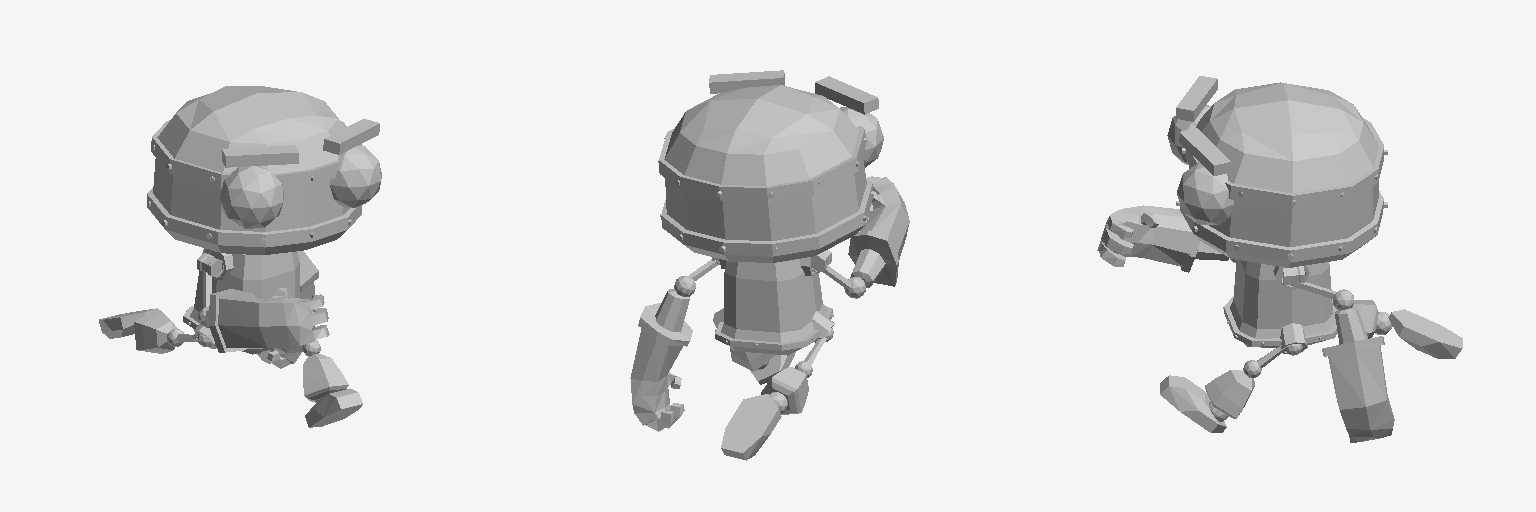
Rendered from Robot_000023.obj.
3 views of the same model, side by side, from view 1: azimuth 30°, elevation 25°; view 2: azimuth 150°, elevation 25°; view 3: azimuth 270°, elevation 25° (orthographic).
Visible parts, largest first — view 1: Head_Cylinder, Hand.R_Cylinder.015, Torso_Cube.001, LowerLeg.L_Cylinder.012, Foot.L_Cylinder.014, LowerLeg.R_Cylinder.018, Hand.L_Cylinder.022, Foot.R_Cylinder.017; view 2: Head_Cylinder, Torso_Cube.001, Hand.L_Cylinder.022, Hand.R_Cylinder.015, Foot.R_Cylinder.017, LowerLeg.R_Cylinder.018, Arm.L_Cylinder.010, Foot.L_Cylinder.014, LowerLeg.L_Cylinder.012, Arm.R_Cylinder.013; view 3: Head_Cylinder, Torso_Cube.001, Hand.L_Cylinder.022, Hand.R_Cylinder.015, Foot.R_Cylinder.017, Foot.L_Cylinder.014, LowerLeg.L_Cylinder.012, LowerLeg.R_Cylinder.018, Arm.L_Cylinder.010.
Part boxes in pixels (x1,y1,x2,y2): Head_Cylinder: (147,86,381,254); Hand.R_Cylinder.015: (205,288,329,352); Torso_Cube.001: (183,248,299,354); LowerLeg.L_Cylinder.012: (303,354,348,402); Foot.L_Cylinder.014: (305,388,362,427); LowerLeg.R_Cylinder.018: (134,308,177,353); Hand.L_Cylinder.022: (257,251,318,368); Foot.R_Cylinder.017: (99,309,154,338); Head_Cylinder: (658,70,883,262); Torso_Cube.001: (713,257,834,355); Hand.L_Cylinder.022: (630,289,692,431); Hand.R_Cylinder.015: (848,176,909,287); Foot.R_Cylinder.017: (721,394,781,460); LowerLeg.R_Cylinder.018: (761,367,808,414); Arm.L_Cylinder.010: (674,259,718,296); Foot.L_Cylinder.014: (750,352,795,384); LowerLeg.L_Cylinder.012: (730,347,774,371); Arm.R_Cylinder.013: (822,265,865,298); Head_Cylinder: (1167,76,1387,267); Torso_Cube.001: (1223,260,1337,355); Hand.L_Cylinder.022: (1322,307,1394,442); Hand.R_Cylinder.015: (1097,205,1228,272); Foot.R_Cylinder.017: (1388,309,1462,358); Foot.L_Cylinder.014: (1160,375,1226,432); LowerLeg.L_Cylinder.012: (1205,370,1254,421); LowerLeg.R_Cylinder.018: (1353,300,1392,338); Arm.L_Cylinder.010: (1291,282,1354,309).
Size of the model in its own units: 2.65 by 4.19 by 4.37.